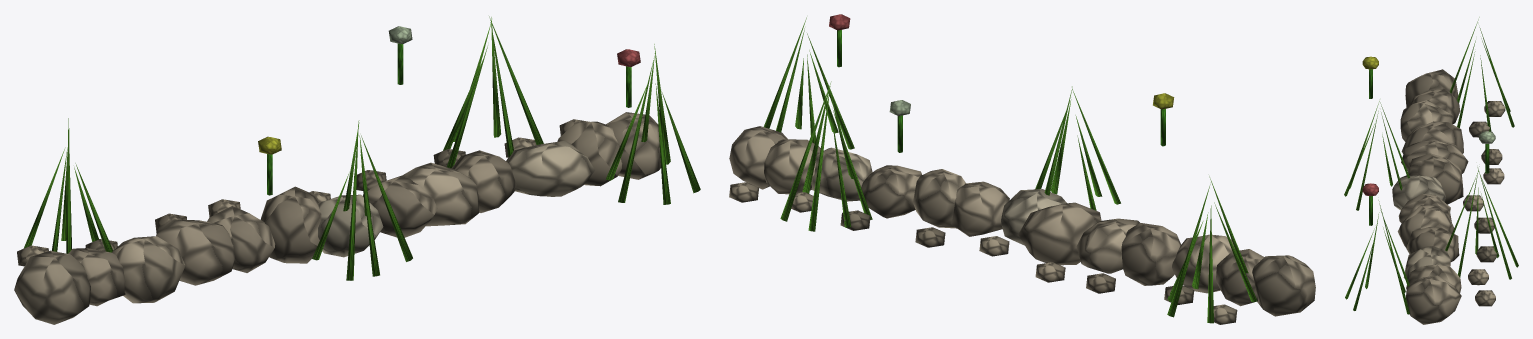
File: path_edge_stones.glb
The picture shows the model from 3 angles, left to right: view 1: azimuth 30°, elevation 25°; view 2: azimuth 150°, elevation 25°; view 3: azimuth 270°, elevation 25°; orthographic projection. The views are drawn at different scales.
Visible parts, largest first — view 1: path_edge_stones; view 2: path_edge_stones; view 3: path_edge_stones.
Part boxes in pixels (x1,y1,x2,y2): path_edge_stones: [14, 16, 700, 324]; path_edge_stones: [729, 14, 1315, 324]; path_edge_stones: [1344, 17, 1518, 324].
Size of the model in its own units: 3.05 by 0.7701 by 0.992.
Materials: 2 (2 with a texture image).
